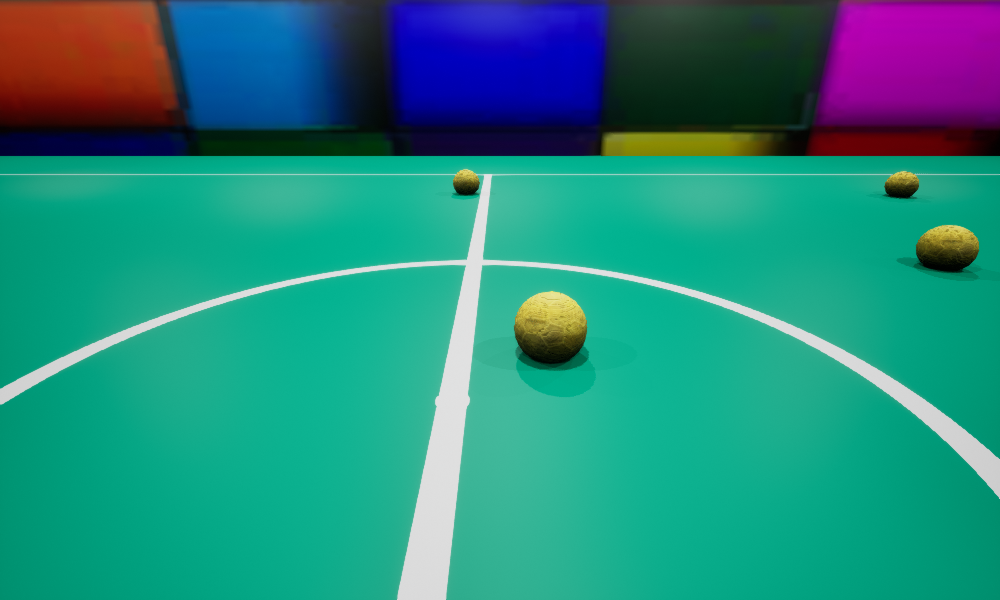b: (514, 291, 586, 362), (916, 225, 978, 270), (884, 171, 918, 197), (453, 169, 479, 194)
